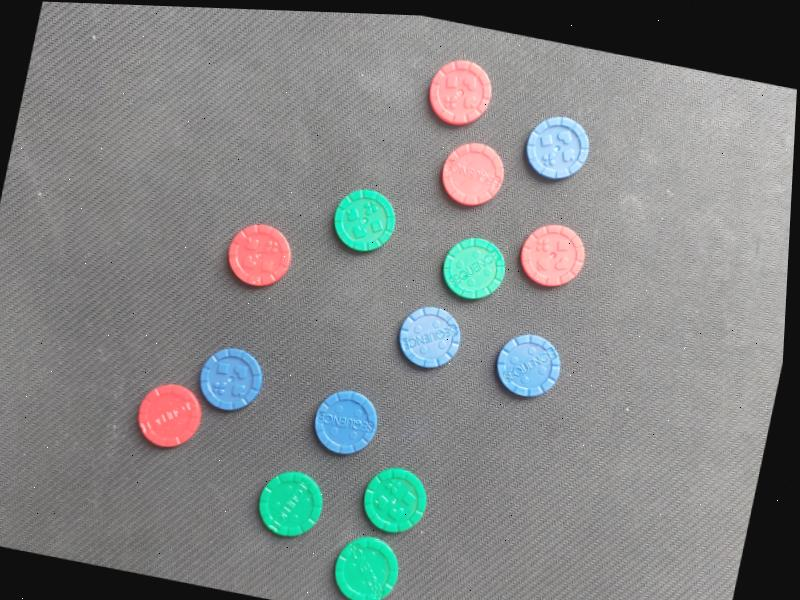Blue_Token: (483, 322, 571, 407), (383, 296, 472, 379), (303, 380, 388, 464), (518, 104, 598, 190), (190, 340, 271, 421)
Green_Token: (350, 457, 442, 544), (247, 459, 335, 545), (431, 227, 516, 312), (323, 180, 406, 262), (323, 528, 409, 600)
Red_Token: (217, 213, 304, 299), (419, 50, 503, 135), (431, 133, 515, 217), (509, 214, 594, 297), (127, 375, 209, 460)
